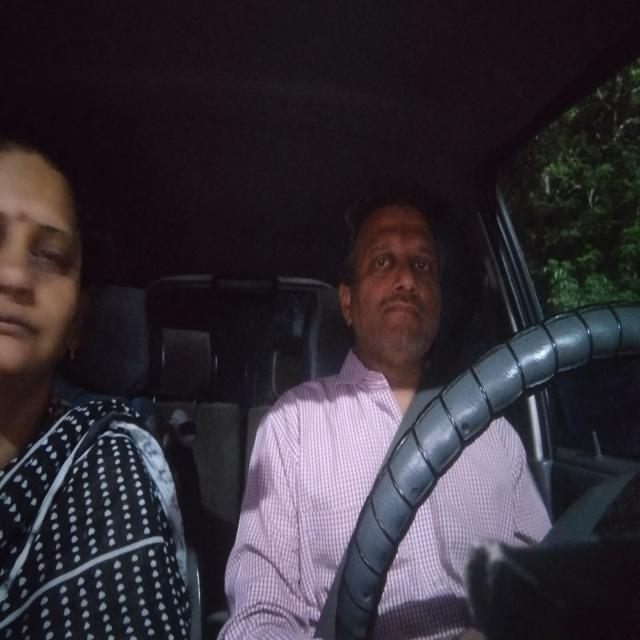person: (1, 136, 98, 398), (334, 189, 451, 383)
